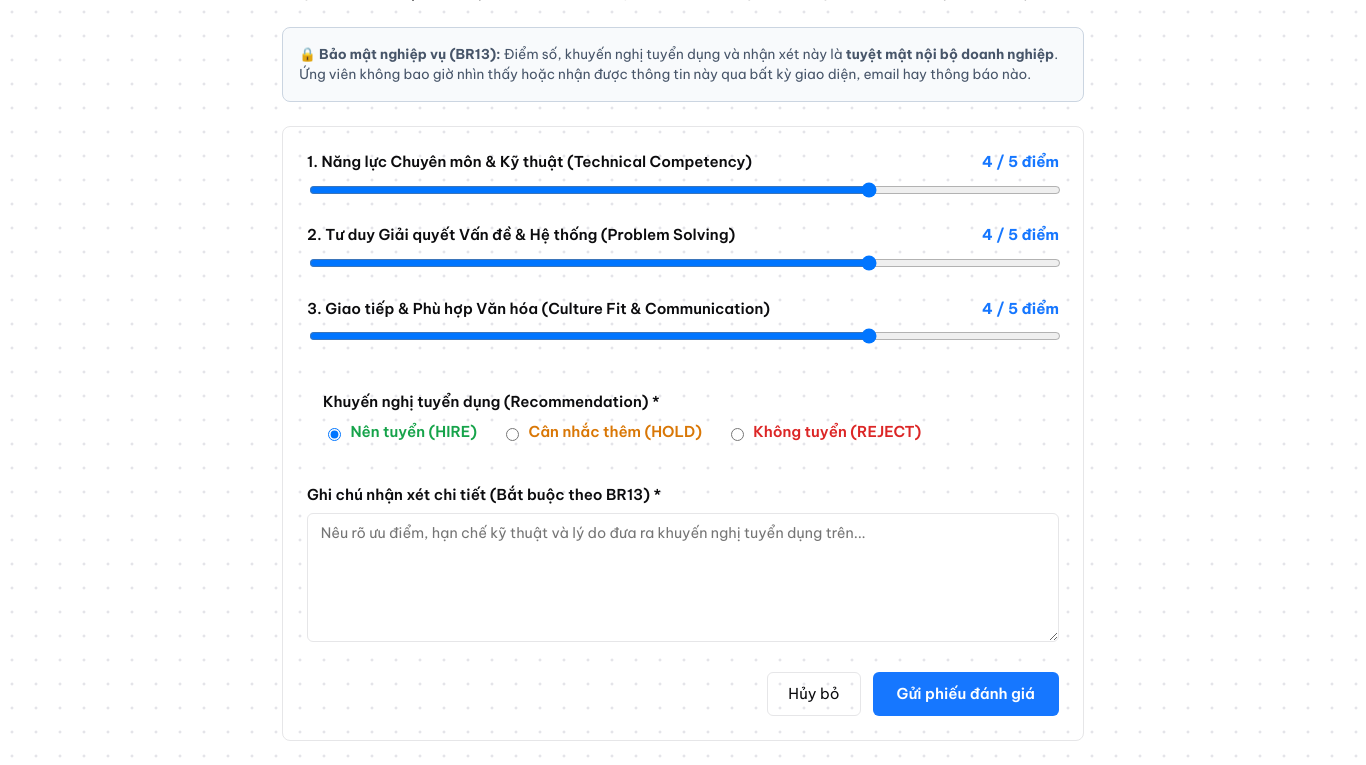
Test: InterviewEvaluationPage (UI22, UC13, BR13) › validates note length according to BR13 (required, 10-5000 chars)
(page scrolled)
// Submit with empty note
Click the button with test id "submit-evaluation-btn" at (966, 694), box left=873, top=672, right=1059, bottom=716
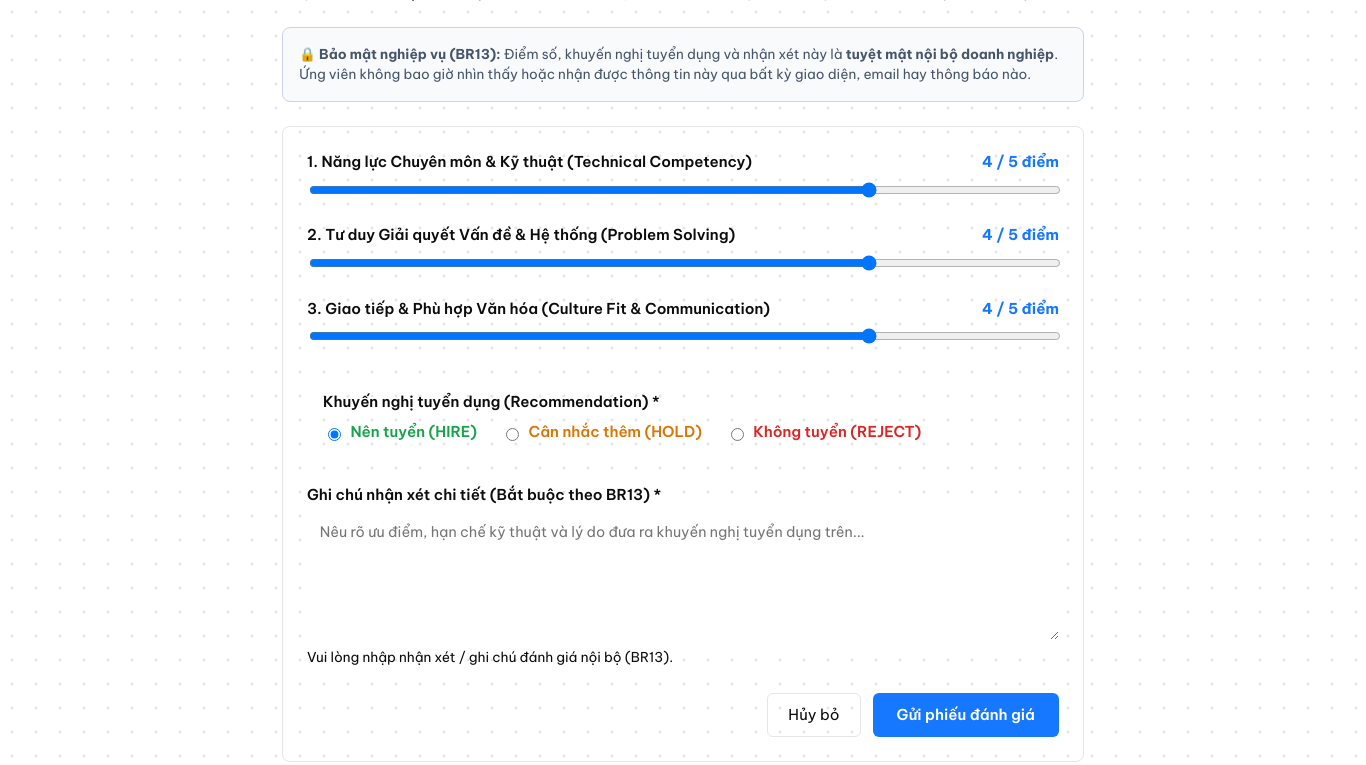
Result: the text "Vui lòng nhập nhận xét / ghi chú đánh giá nội bộ (BR13)." is shown at left=307, top=648, right=673, bottom=666
Replace the text in the text box with test id "evaluation-note-input" with "Tốt" at (683, 576), box left=307, top=513, right=1059, bottom=640
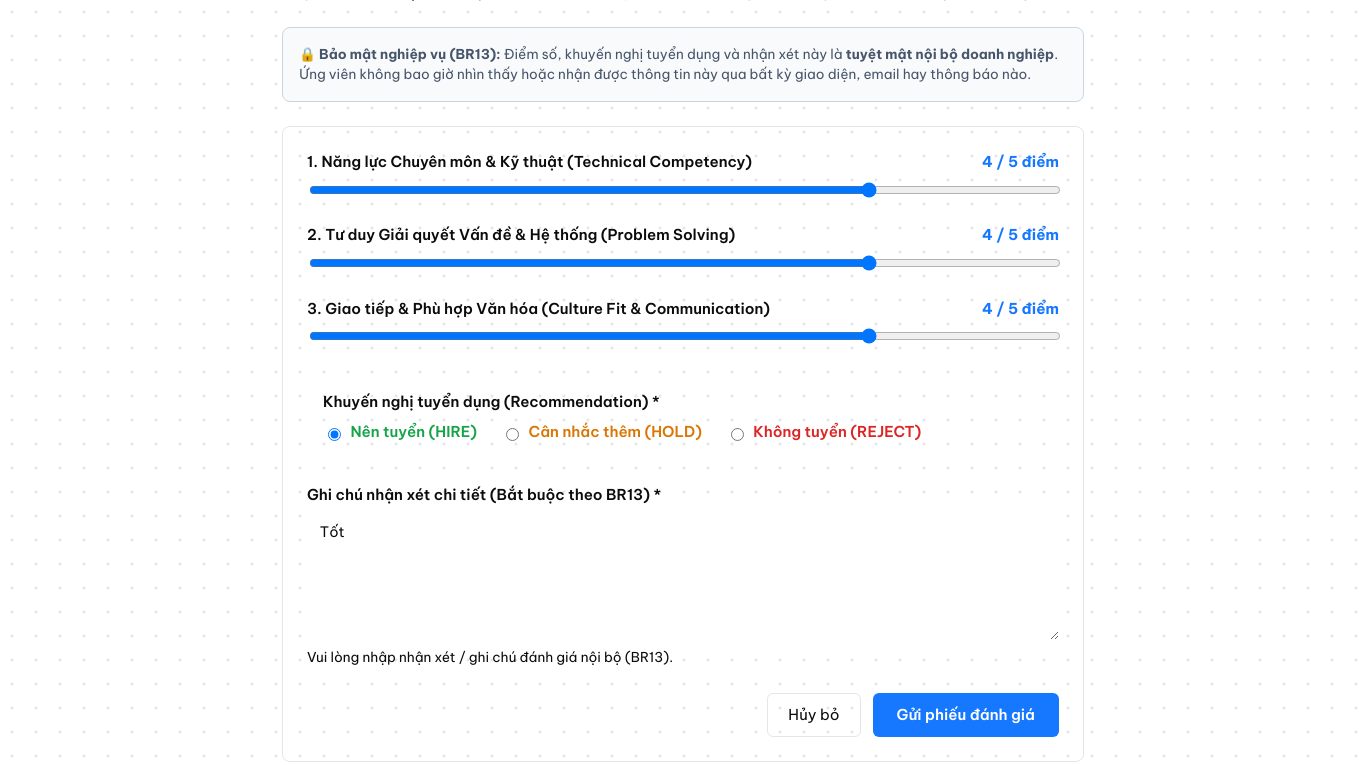
Click the button with test id "submit-evaluation-btn" at (966, 715), box left=873, top=693, right=1059, bottom=737
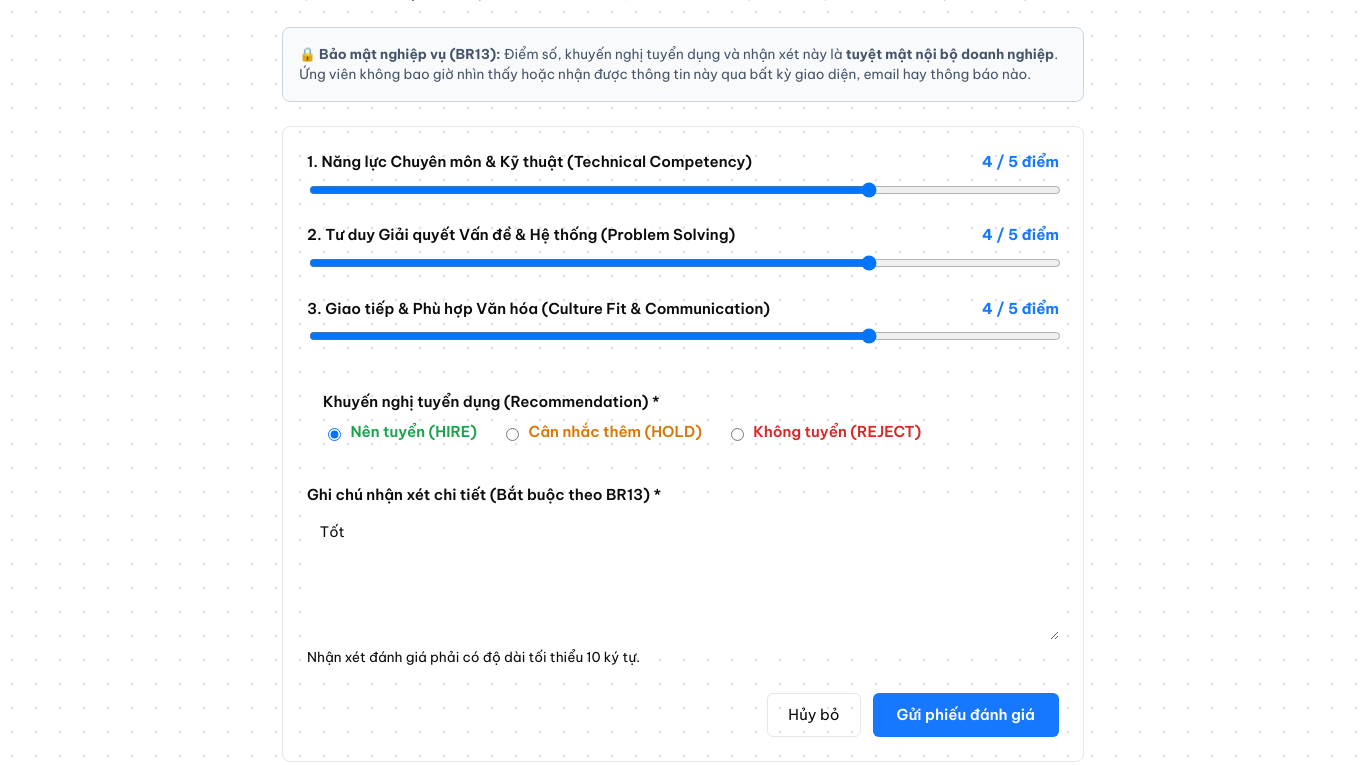
Result: the text "Nhận xét đánh giá phải có độ dài tối thiểu 10 ký tự." is shown at left=307, top=648, right=640, bottom=666
